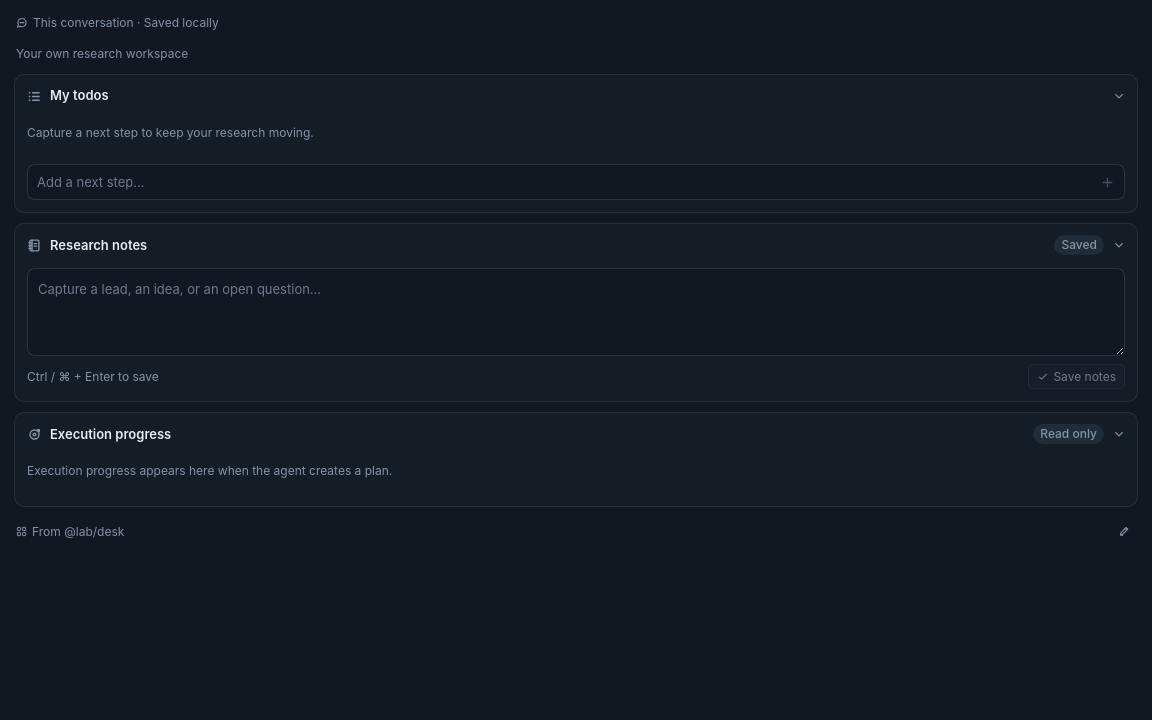
Test case: Chat plugin panels › saves notes with Ctrl or Command + Enter, excluding input method composition
The image size is (1152, 720).
Type "First lead" into the text box named "Research notes". click: (576, 312)
box: [27, 268, 1125, 356]
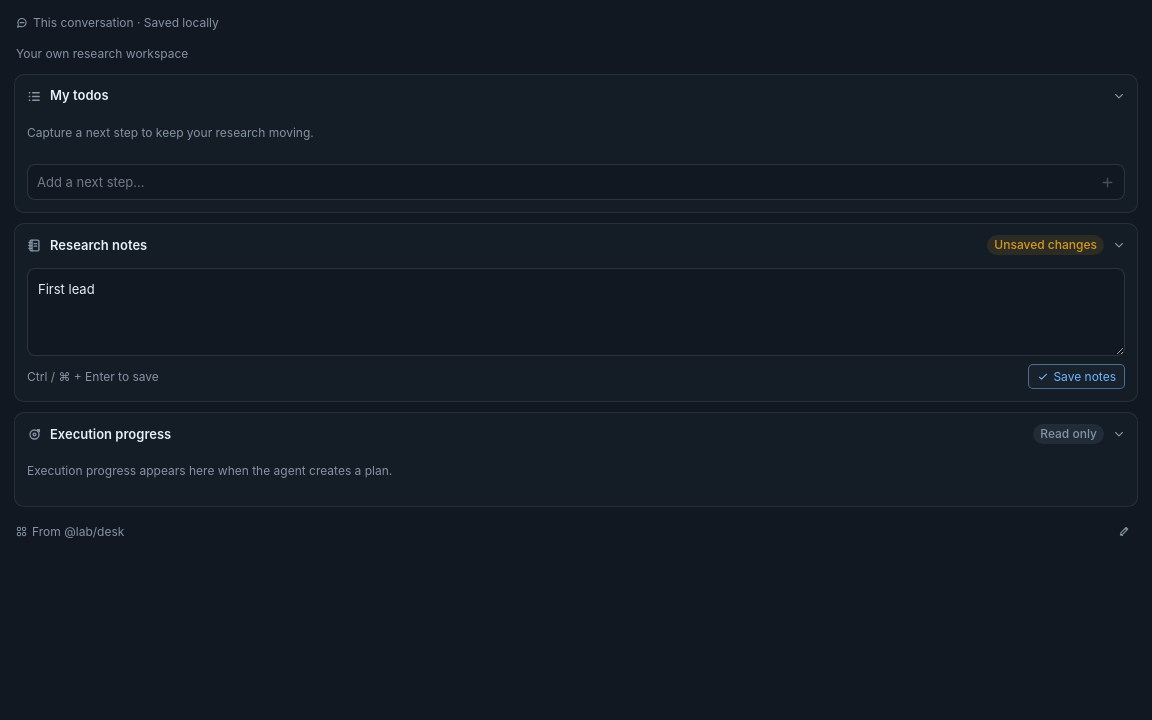
Press Enter in the text box named "Research notes", box [27, 268, 1125, 356]
Press Enter in the text box named "Research notes", box [27, 268, 1125, 356]
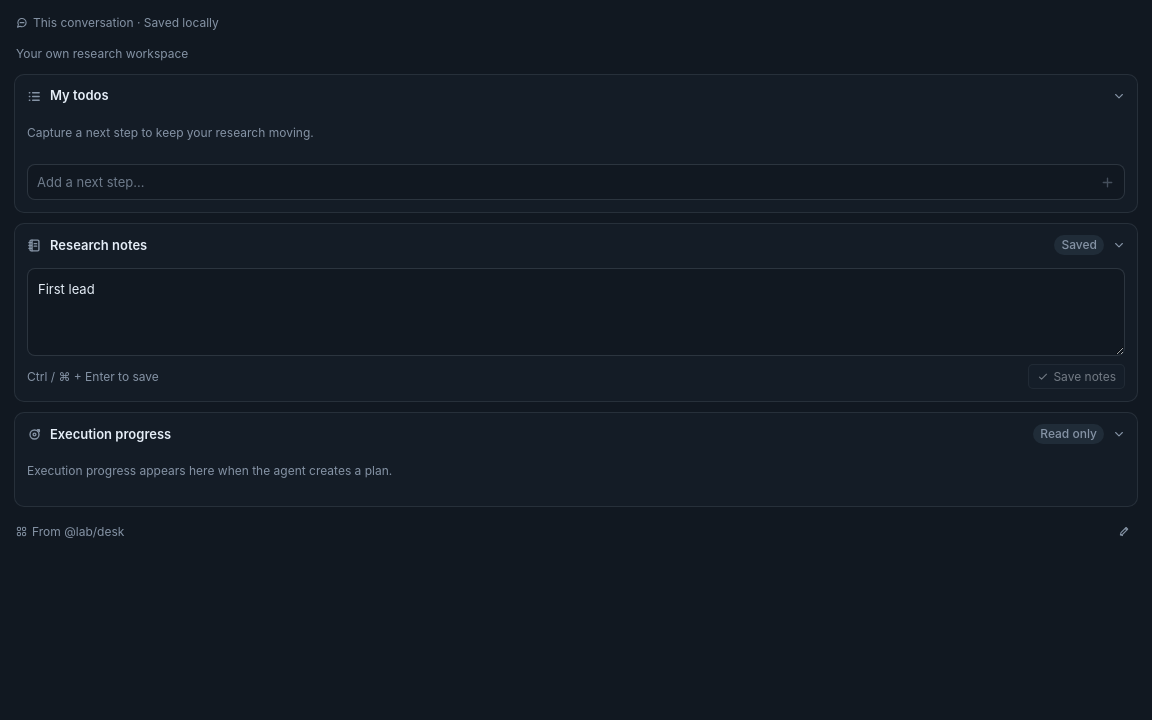
Check: the button "Unsaved changes" is gone
Replace the text in the text box named "Research notes" with "Second lead". click: (576, 312)
box: [27, 268, 1125, 356]
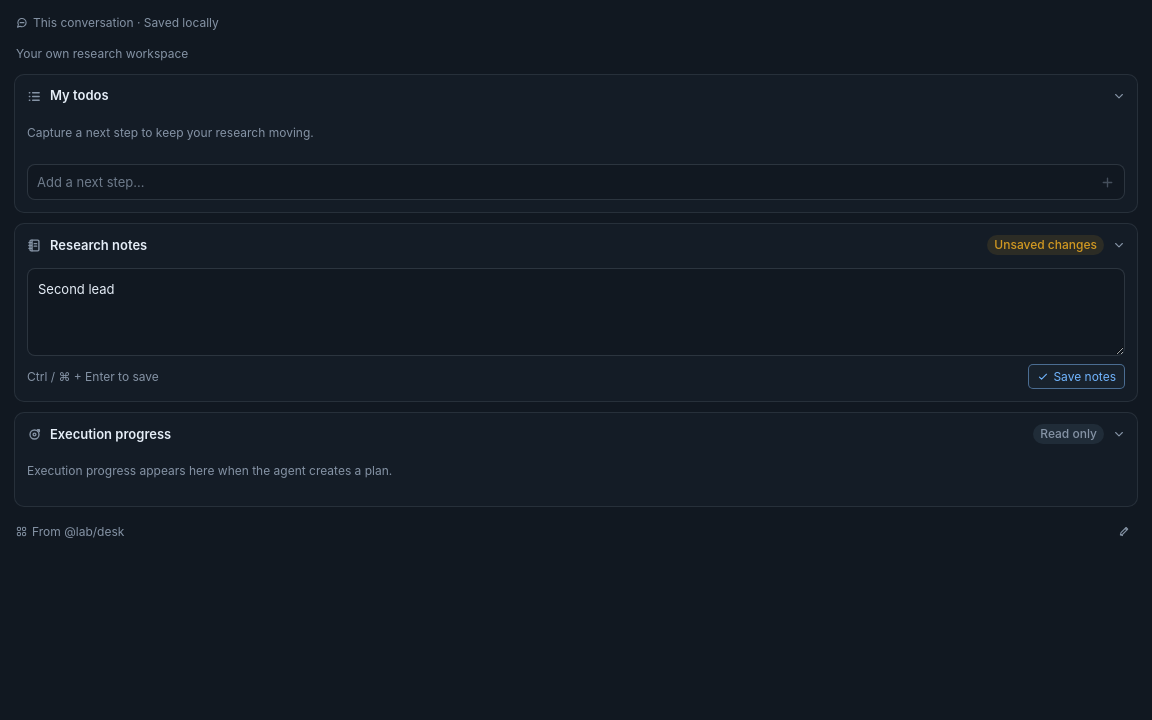
Press Enter in the text box named "Research notes", box [27, 268, 1125, 356]
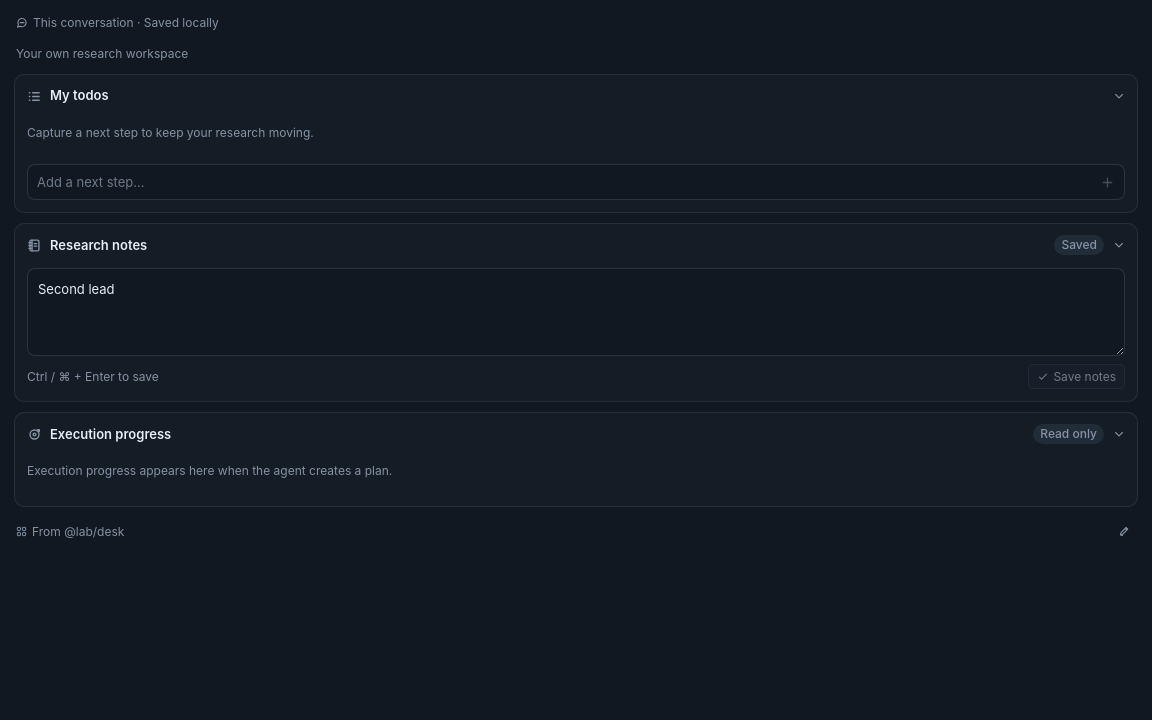
Check: the button "Unsaved changes" is gone
